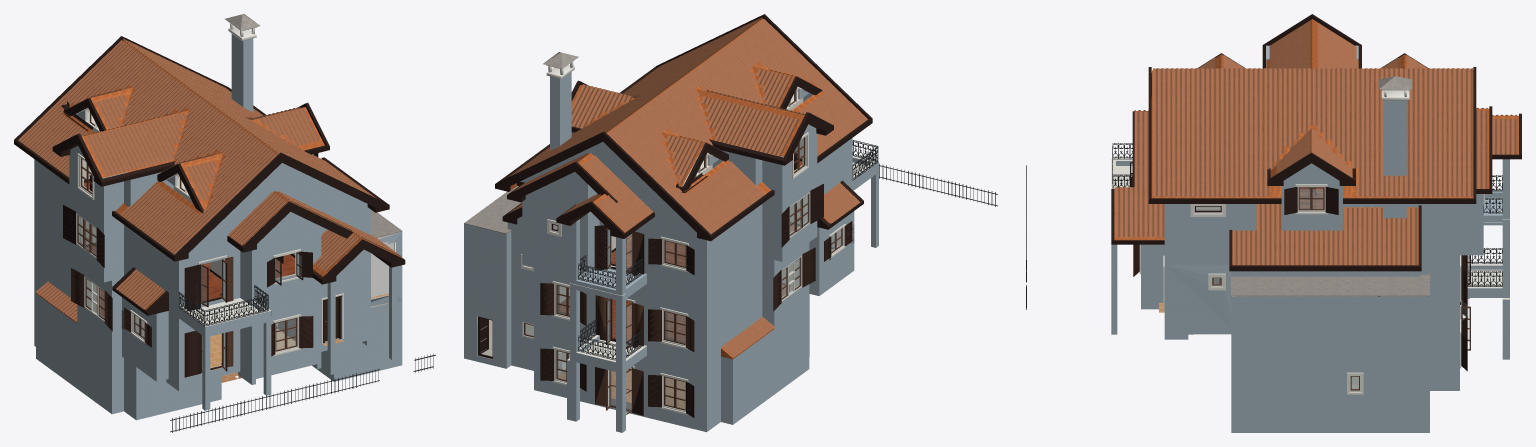
The model's file is BUILDING-opt-v6.glb.
3 views of the same model, side by side, from view 1: azimuth 30°, elevation 25°; view 2: azimuth 150°, elevation 25°; view 3: azimuth 270°, elevation 25° (orthographic).
Visible parts, largest first — view 1: LM_cephe_002, Clay tile.001, WOODY-DARK (×4), LM_cephe_001, LM_zemin_019, metal.001, glass, LM_zemin_014, LM_duvar_001, LM_cephe_000, LM_zemin_011, EK_garaj_kapisi; view 2: LM_cephe_002, Clay tile.001, WOODY-DARK (×4), LM_zemin_019, glass, LM_cephe_001, metal.001, LM_zemin_014, LM_cephe_000, LM_duvar_001, LM_zemin_012; view 3: LM_cephe_002, Clay tile.001, WOODY-DARK (×4), LM_cephe_000, LM_cephe_001, LM_zemin_019, metal.001, glass.
Part boxes in pixels (left/top/right/bottom): LM_cephe_002: left=34, top=34, right=402, bottom=420; Clay tile.001: left=18, top=38, right=401, bottom=321; WOODY-DARK (×4): left=14, top=36, right=405, bottom=377; LM_cephe_001: left=36, top=40, right=402, bottom=323; LM_zemin_019: left=76, top=23, right=395, bottom=355; metal.001: left=170, top=285, right=435, bottom=432; glass: left=78, top=216, right=301, bottom=368; LM_zemin_014: left=84, top=182, right=295, bottom=316; LM_duvar_001: left=81, top=108, right=295, bottom=375; LM_cephe_000: left=225, top=14, right=402, bottom=237; LM_zemin_011: left=202, top=293, right=388, bottom=370; EK_garaj_kapisi: left=371, top=243, right=393, bottom=297; LM_cephe_002: left=464, top=72, right=878, bottom=432; Clay tile.001: left=509, top=17, right=867, bottom=357; WOODY-DARK (×4): left=478, top=14, right=872, bottom=417; LM_zemin_019: left=521, top=61, right=876, bottom=414; glass: left=525, top=195, right=841, bottom=412; LM_cephe_001: left=510, top=18, right=841, bottom=359; metal.001: left=578, top=140, right=997, bottom=360; LM_zemin_014: left=560, top=161, right=802, bottom=342; LM_cephe_000: left=464, top=52, right=578, bottom=234; LM_duvar_001: left=480, top=88, right=839, bottom=361; LM_zemin_012: left=558, top=368, right=684, bottom=408; LM_cephe_002: left=1111, top=45, right=1509, bottom=432; Clay tile.001: left=1115, top=21, right=1516, bottom=265; WOODY-DARK (×4): left=1111, top=14, right=1521, bottom=390; LM_cephe_000: left=1230, top=76, right=1430, bottom=296; LM_cephe_001: left=1114, top=19, right=1518, bottom=265; LM_zemin_019: left=1111, top=89, right=1509, bottom=394; metal.001: left=1026, top=143, right=1502, bottom=309; glass: left=1131, top=163, right=1469, bottom=388.
Size of the model in its own units: 16.62 by 14.92 by 20.98.
Materials: 67 (39 with a texture image).
